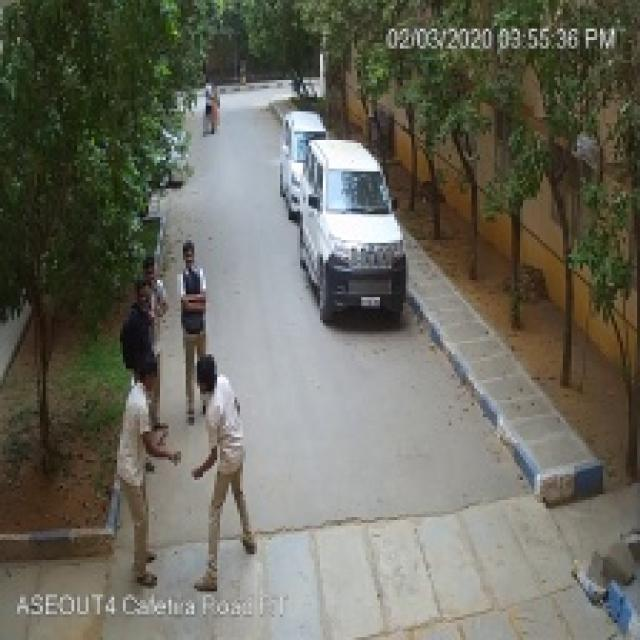fight: (66, 364, 313, 491)
